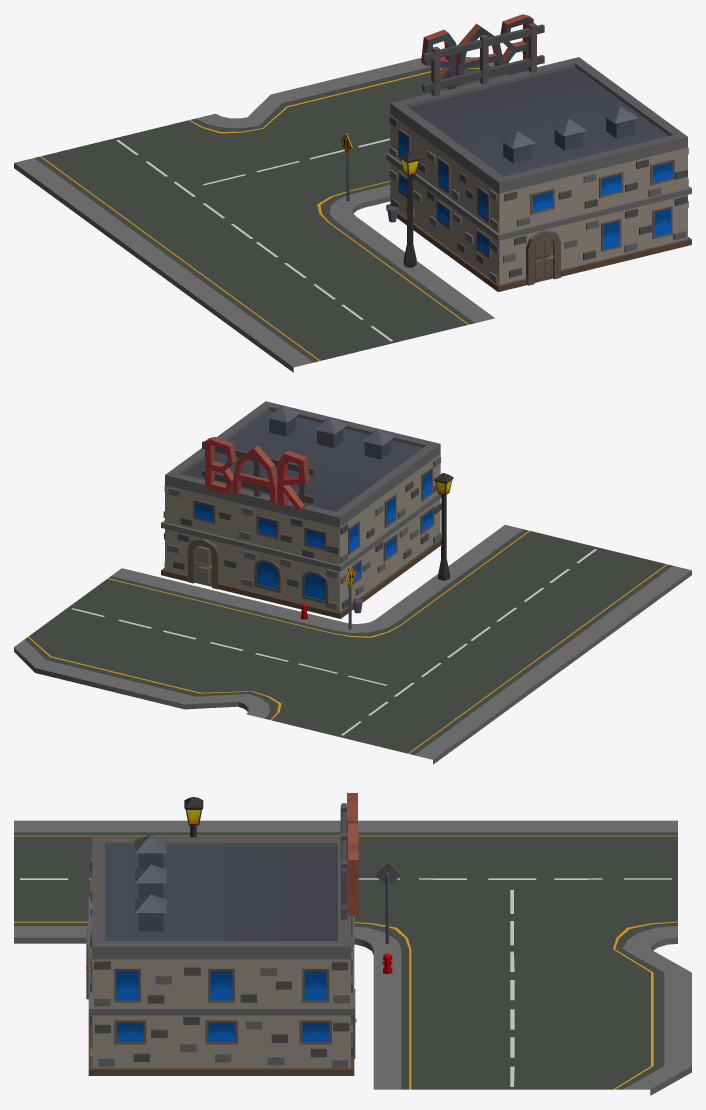
3 renders of one model, top to bottom at view 1: azimuth 30°, elevation 25°; view 2: azimuth 150°, elevation 25°; view 3: azimuth 270°, elevation 25°, orthographic. The views are drawn at different scales.
Parts seen in each view (by area): view 1: SM_House_36, SM_Road_86, SM_Road_85, SM_Road_87, SM_Hoarding_06, SM_Street_Light_254; view 2: SM_House_36, SM_Road_87, SM_Road_86, SM_Road_85, SM_Hoarding_06, SM_Street_Light_254; view 3: SM_House_36, SM_Road_87, SM_Road_86, SM_Road_85, SM_Hoarding_06, SM_SignBoard_119, SM_Street_Light_254.
Part boxes in pixels (<box>): SM_House_36: <box>386,57,691,291</box>; SM_Road_86: <box>14,113,363,269</box>; SM_Road_85: <box>153,216,494,372</box>; SM_Road_87: <box>248,57,506,207</box>; SM_Hoarding_06: <box>421,14,544,96</box>; SM_Street_Light_254: <box>399,151,420,267</box>; SM_House_36: <box>161,401,441,618</box>; SM_Road_87: <box>14,568,345,709</box>; SM_Road_86: <box>238,619,562,764</box>; SM_Road_85: <box>376,524,691,669</box>; SM_Hoarding_06: <box>202,437,315,509</box>; SM_Street_Light_254: <box>434,473,453,580</box>; SM_House_36: <box>86,835,356,1075</box>; SM_Road_87: <box>373,949,691,1095</box>; SM_Road_86: <box>354,820,677,954</box>; SM_Road_85: <box>14,820,340,943</box>; SM_Hoarding_06: <box>340,793,358,919</box>; SM_SignBoard_119: <box>374,862,401,943</box>; SM_Street_Light_254: <box>184,797,203,837</box>.
Size of the model in its own units: 23 by 7.82 by 24.5.
Materials: 2 (2 with a texture image).
